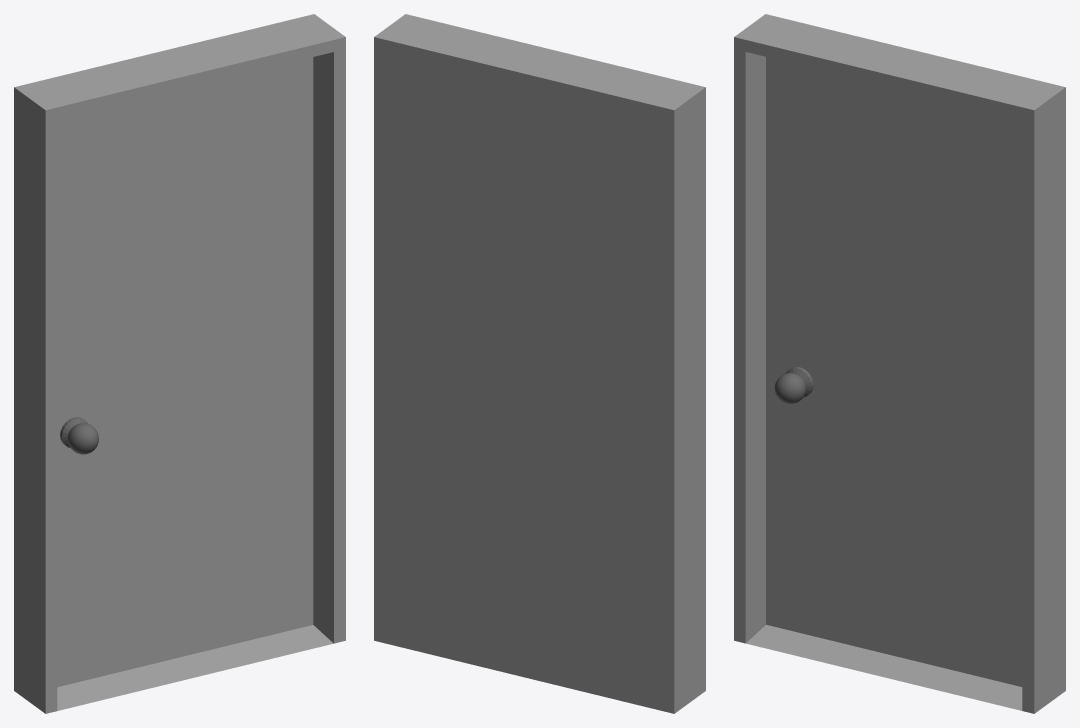
Rendered from Porta.fbx.
The picture shows the model from 3 angles, left to right: view 1: azimuth 30°, elevation 25°; view 2: azimuth 150°, elevation 25°; view 3: azimuth 330°, elevation 25°; orthographic projection.
Visible parts, largest first — view 1: Porta1, Maniglia1; view 2: Porta1; view 3: Porta1, Maniglia1.
Part boxes in pixels (x1,y1,x2,y2): Porta1: [14, 14, 345, 713]; Maniglia1: [60, 417, 98, 454]; Porta1: [374, 14, 705, 713]; Porta1: [734, 14, 1065, 713]; Maniglia1: [774, 366, 813, 404].
Size of the model in its own units: 1.1 by 2.11 by 0.2.
